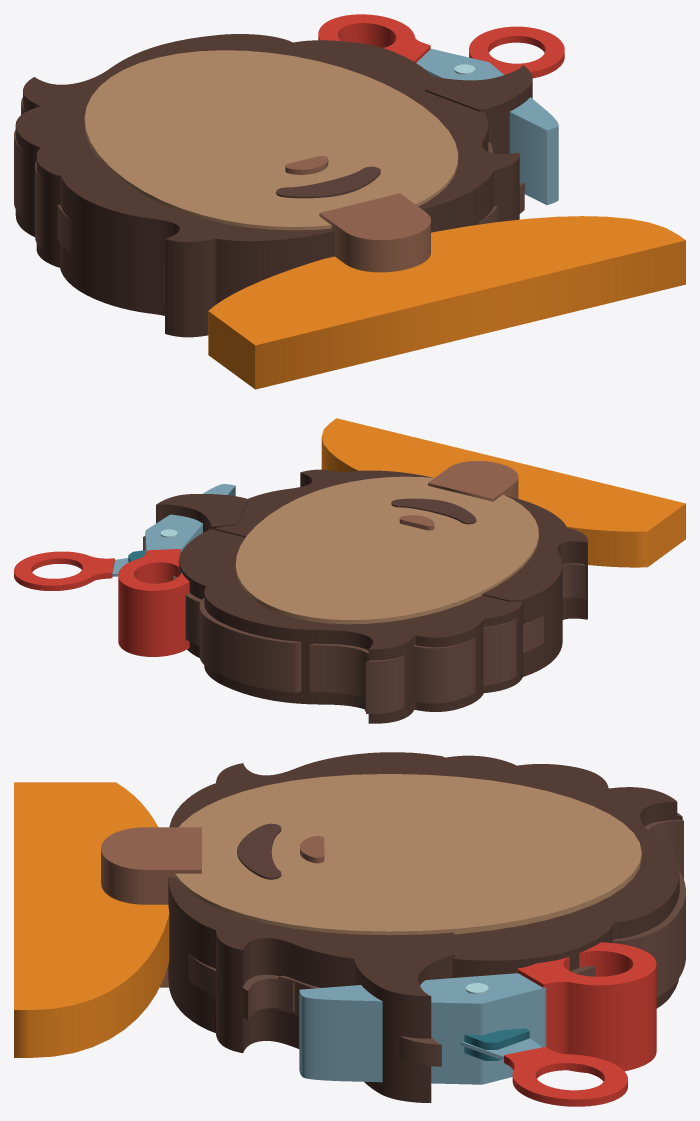
File: emoji_u1f487_1f3fd.glb
3 views of the same model, one above another, from view 1: azimuth 30°, elevation 25°; view 2: azimuth 150°, elevation 25°; view 3: azimuth 270°, elevation 25° (orthographic). The views are drawn at different scales.
Parts seen in each view (by area): view 1: emoji_u1f487_1f3fd; view 2: emoji_u1f487_1f3fd; view 3: emoji_u1f487_1f3fd.
Part boxes in pixels (<box>): emoji_u1f487_1f3fd: <box>14,14,685,389</box>; emoji_u1f487_1f3fd: <box>14,418,685,723</box>; emoji_u1f487_1f3fd: <box>14,752,685,1106</box>.
Bounding box in the file's own units: 0.0349 × 0.0066 × 0.0331.
